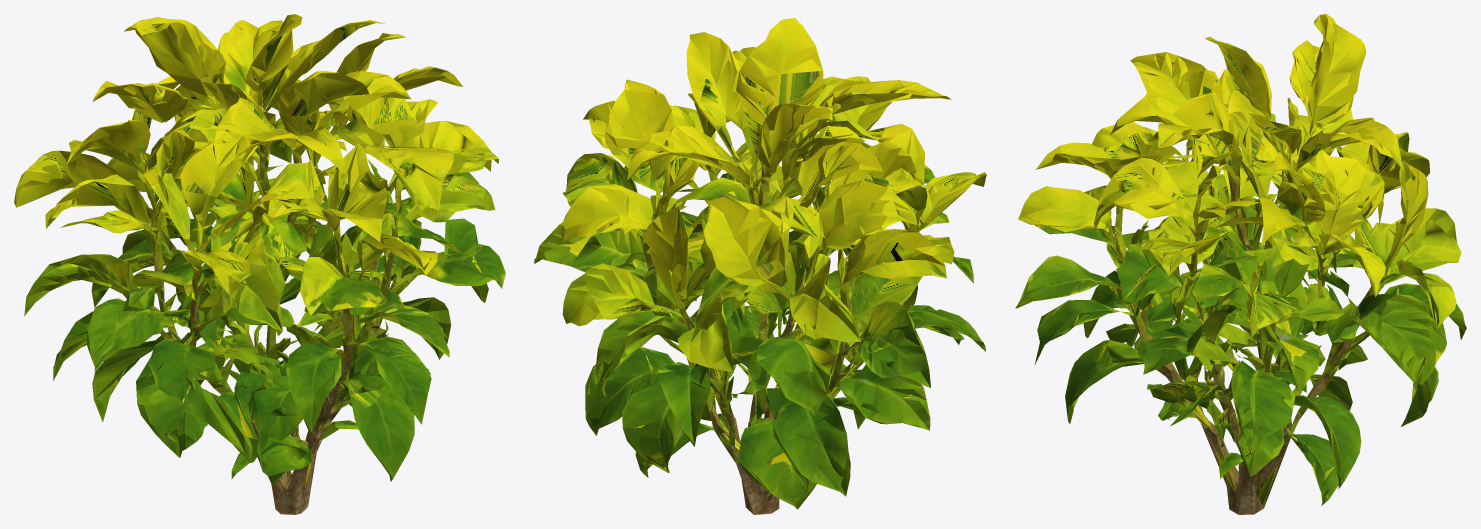
The model's file is w3croton.glb.
The picture shows the model from 3 angles, left to right: view 1: azimuth 30°, elevation 25°; view 2: azimuth 150°, elevation 25°; view 3: azimuth 270°, elevation 25°; orthographic projection. The views are drawn at different scales.
Parts seen in each view (by area): view 1: w3croton_near, w3croton_far; view 2: w3croton_near, w3croton_far; view 3: w3croton_near, w3croton_far.
Boxes of the visible parts, bbox=[...] form: w3croton_near: bbox=[14, 14, 505, 514]; w3croton_far: bbox=[16, 20, 498, 513]; w3croton_near: bbox=[534, 18, 986, 514]; w3croton_far: bbox=[547, 41, 972, 513]; w3croton_near: bbox=[1015, 14, 1466, 514]; w3croton_far: bbox=[1020, 16, 1461, 513].
Size of the model in its own units: 1.3 by 1.45 by 1.27.
Materials: 1 (1 with a texture image).
